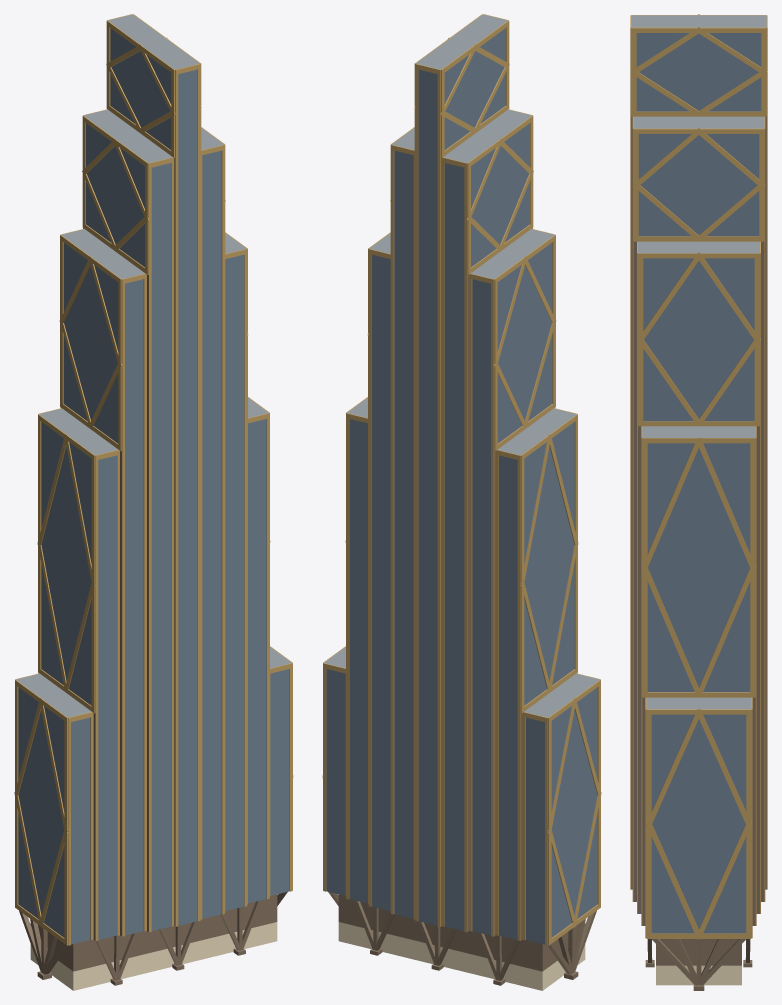
The model's file is nyc-270-park.glb.
The picture shows the model from 3 angles, left to right: view 1: azimuth 30°, elevation 25°; view 2: azimuth 150°, elevation 25°; view 3: azimuth 270°, elevation 25°; orthographic projection.
Visible parts, largest first — view 1: 270 Park Avenue; view 2: 270 Park Avenue; view 3: 270 Park Avenue.
Part boxes in pixels (bbox=[...]): 270 Park Avenue: bbox=[14, 14, 293, 990]; 270 Park Avenue: bbox=[322, 14, 601, 990]; 270 Park Avenue: bbox=[630, 14, 767, 990].
Size of the model in its own units: 111 by 423 by 57.7.
